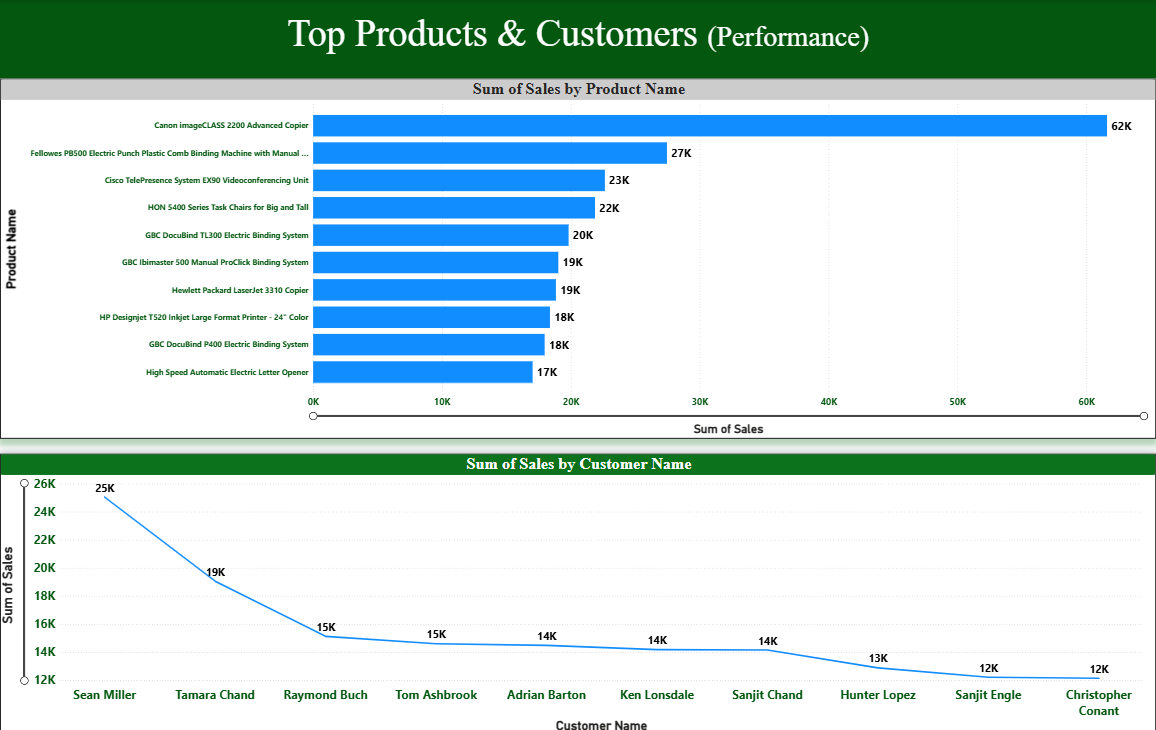

This screenshot's page, from the dashboard's own definition file:
{"tool":"powerbi","page":{"name":"Performance ","canvas":[2200,1400],"ordinal":2},"visuals":[{"type":"textbox","box":[0,0,2199.4,149.8],"z":0},{"type":"clusteredBarChart","fields":{"Category":["train (Cleaned).Product Name"],"Y":["Sum(train (Cleaned).Sales)"]},"box":[0,149.8,2199.4,684.8],"z":1000},{"type":"lineChart","fields":{"Category":["train (Cleaned).Customer Name"],"Y":["Sum(train (Cleaned).Sales)"]},"box":[0,863.1,2199.4,537.4],"z":2000}]}

Visuals, with their boxes in screenshot pixels (x1, y1, x2, y2), scaled from the page's 2200x1400 canvas onto the 1156x730 screenshot:
textbox: detection(0, 0, 1155, 78)
clusteredBarChart - train (Cleaned).Product Name x Sum(train (Cleaned).Sales): detection(0, 78, 1155, 435)
lineChart - train (Cleaned).Customer Name x Sum(train (Cleaned).Sales): detection(0, 450, 1155, 729)
